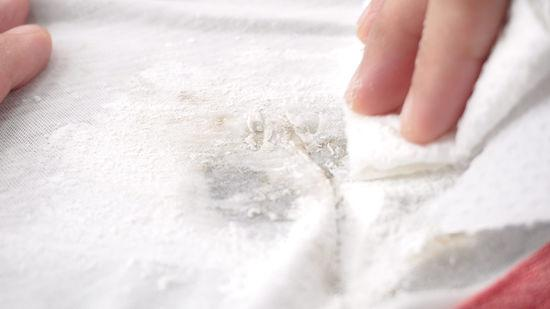gun: (193, 160, 298, 230), (240, 110, 346, 160)
